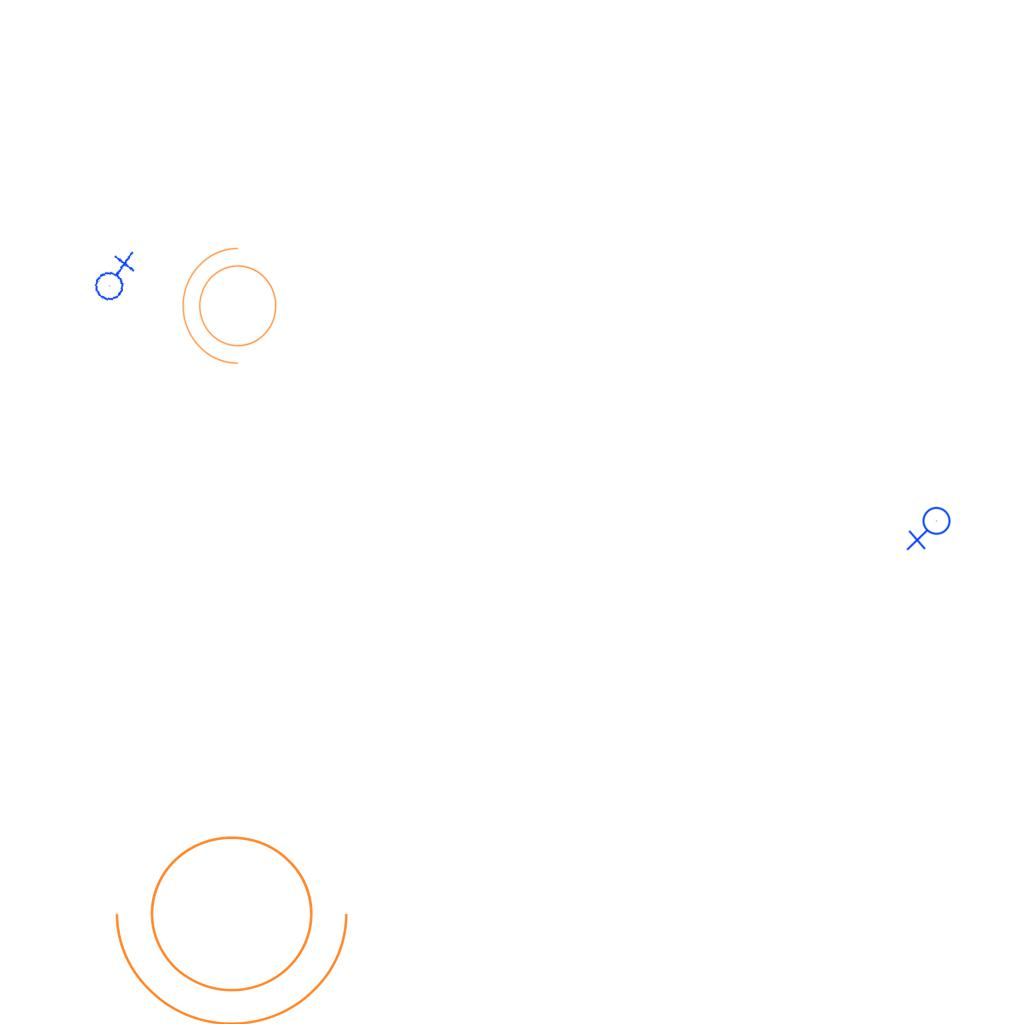Elektroanschluss_allgemein_230V_Geraeteanschlussdose_230V: (84, 248, 143, 305), (906, 506, 955, 553)
Scheinwerfer_fuer_Alarmbeleuchtung: (106, 811, 370, 1024), (177, 243, 289, 375)
